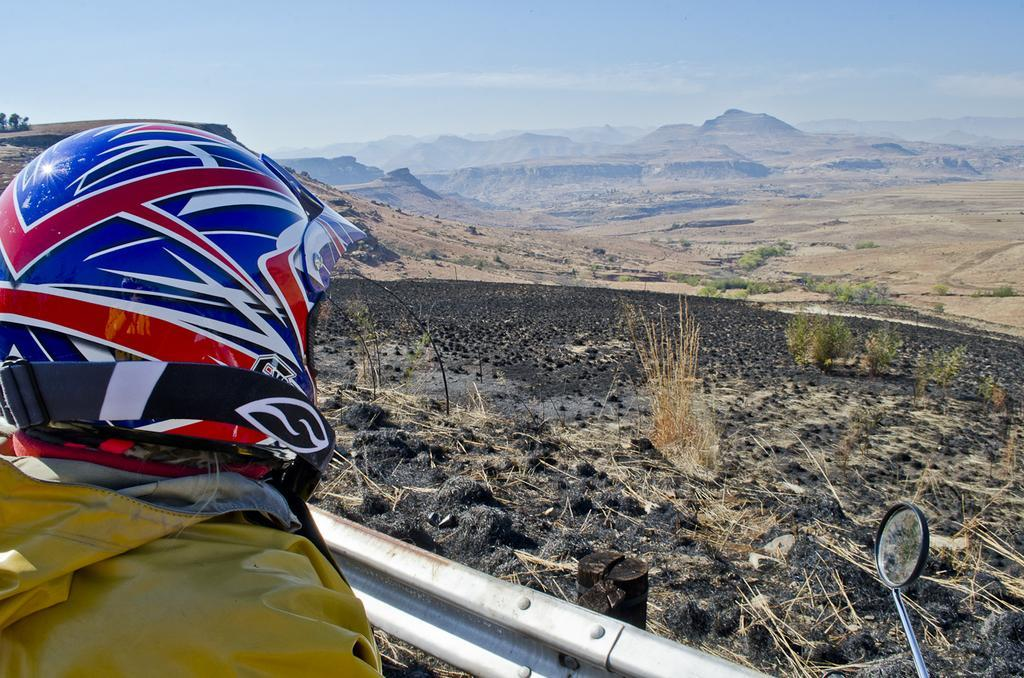helmet: (0, 116, 373, 507)
